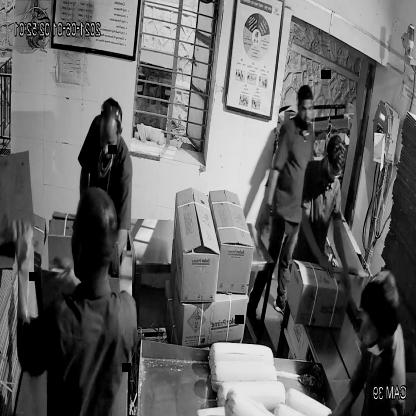goggles: (323, 161, 346, 185)
no_goggles: (98, 130, 124, 152)
